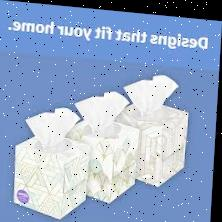cube: (13, 134, 91, 218), (121, 100, 191, 184)
